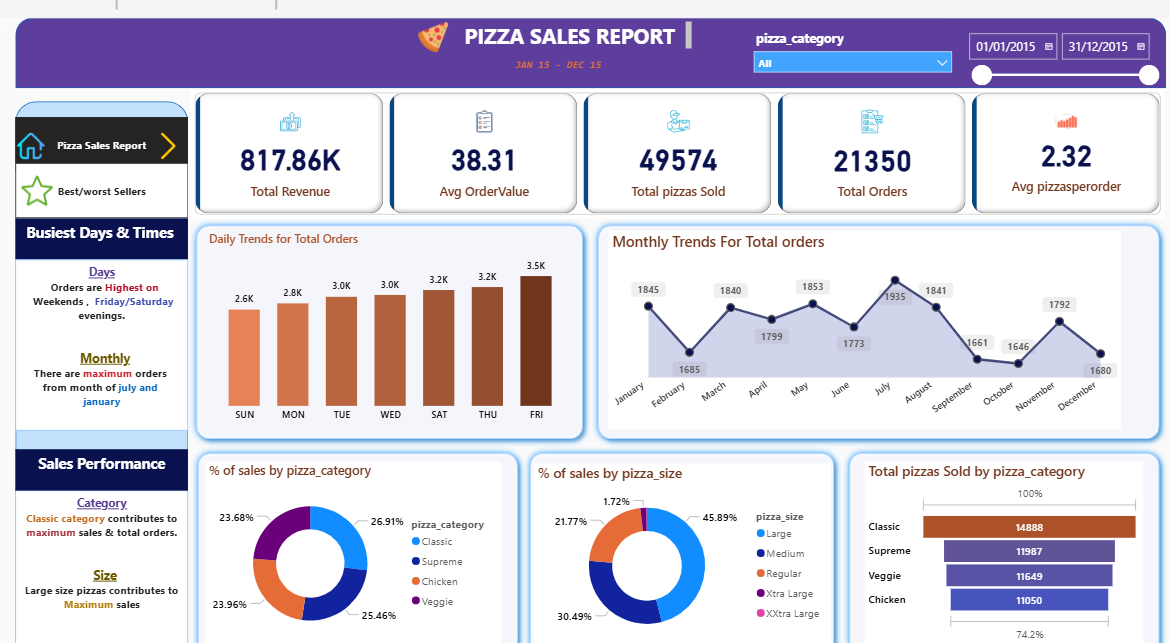

This screenshot's page, from the dashboard's own definition file:
{"tool":"powerbi","page":{"name":"Pizza Sales Report","canvas":[1500,820],"ordinal":0},"visuals":[{"type":"cardVisual","fields":{"Data":["pizza_sales.Total Revenue","pizza_sales.Avg OrderValue","pizza_sales.Total pizzas Sold","pizza_sales.Total Orders","pizza_sales.Avg pizzasperorder"]},"box":[242.5,90,1240,165],"z":0},{"type":"shape","box":[17.5,0,1465,90],"z":1000},{"type":"textbox","box":[572.5,0,312.5,45],"z":2000},{"type":"textbox","box":[602.5,45,215,62.5],"z":3000},{"type":"image","box":[350,0,400,50],"z":4000},{"type":"shape","box":[240,255,510,290],"z":5000},{"type":"clusteredColumnChart","title":"Daily Trends for Total Orders","fields":{"Y":["pizza_sales.Total Orders"],"Category":["MTD.DAY"]},"box":[260,272.5,472.5,252.5],"z":6000},{"type":"shape","box":[750,255,732.5,290],"z":7000},{"type":"areaChart","title":"Monthly Trends For Total orders","fields":{"Y":["pizza_sales.Total Orders"],"Category":["pizza_sales.Month Name"]},"box":[772.5,272.5,652.5,252.5],"z":8000},{"type":"shape","box":[242.5,545,425,275],"z":9000},{"type":"shape","box":[665,545,405,275],"z":10000},{"type":"shape","box":[1070,545,412.5,275],"z":11000},{"type":"donutChart","title":"% of sales by pizza_category","fields":{"Category":["pizza_sales.pizza_category"],"Y":["pizza_sales.Total Revenue"]},"box":[260,565,377.5,237.5],"z":12000},{"type":"shape","box":[17.5,107.5,220,712.5],"z":13000},{"type":"donutChart","title":"% of sales by pizza_size","fields":{"Y":["pizza_sales.Total Revenue"],"Category":["pizza_sales.pizza_size"]},"box":[677.5,567.5,377.5,237.5],"z":14000},{"type":"funnel","fields":{"Category":["pizza_sales.pizza_category"],"Y":["pizza_sales.Total pizzas Sold"]},"box":[1100,565,355,235],"z":15000},{"type":"textbox","box":[17.5,255,220,52.5],"z":16000},{"type":"textbox","box":[17.5,307.5,220,217.5],"z":17000},{"type":"textbox","box":[17.5,602.5,220,217.5],"z":18000},{"type":"textbox","box":[17.5,550,220,52.5],"z":19000},{"type":"slicer","title":"Pizza category","fields":{"Values":["pizza_sales.order_date"]},"box":[1220,10,262.5,97.5],"z":21000},{"type":"pageNavigator","box":[17.5,127.5,220,70],"z":22000},{"type":"pageNavigator","box":[17.5,185,220,70],"z":23000},{"type":"image","box":[0,140,75,45],"z":24000},{"type":"image","box":[185,140,55,45],"z":25000},{"type":"image","box":[17.5,195,55,50],"z":26000}]}

Visuals, with their boxes on the page's 1500x820 design canvas (x1, y1, x2, y2). These are canvas units, not pixel positions in the 1170x643 screenshot, which may show the page scaled, cropped or inside an application window:
cardVisual - pizza_sales.Total Revenue x pizza_sales.Avg OrderValue: x1=242 y1=90 x2=1482 y2=255
shape: x1=18 y1=0 x2=1482 y2=90
textbox: x1=572 y1=0 x2=885 y2=45
textbox: x1=602 y1=45 x2=818 y2=108
image: x1=350 y1=0 x2=750 y2=50
shape: x1=240 y1=255 x2=750 y2=545
"Daily Trends for Total Orders" clusteredColumnChart: x1=260 y1=272 x2=732 y2=525
shape: x1=750 y1=255 x2=1482 y2=545
"Monthly Trends For Total orders" areaChart: x1=772 y1=272 x2=1425 y2=525
shape: x1=242 y1=545 x2=668 y2=820
shape: x1=665 y1=545 x2=1070 y2=820
shape: x1=1070 y1=545 x2=1482 y2=820
"% of sales by pizza_category" donutChart: x1=260 y1=565 x2=638 y2=802
shape: x1=18 y1=108 x2=238 y2=820
"% of sales by pizza_size" donutChart: x1=678 y1=568 x2=1055 y2=805
funnel - pizza_sales.pizza_category x pizza_sales.Total pizzas Sold: x1=1100 y1=565 x2=1455 y2=800
textbox: x1=18 y1=255 x2=238 y2=308
textbox: x1=18 y1=308 x2=238 y2=525
textbox: x1=18 y1=602 x2=238 y2=820
textbox: x1=18 y1=550 x2=238 y2=602
"Pizza category" slicer: x1=1220 y1=10 x2=1482 y2=108
pageNavigator: x1=18 y1=128 x2=238 y2=198
pageNavigator: x1=18 y1=185 x2=238 y2=255
image: x1=0 y1=140 x2=75 y2=185
image: x1=185 y1=140 x2=240 y2=185
image: x1=18 y1=195 x2=72 y2=245
